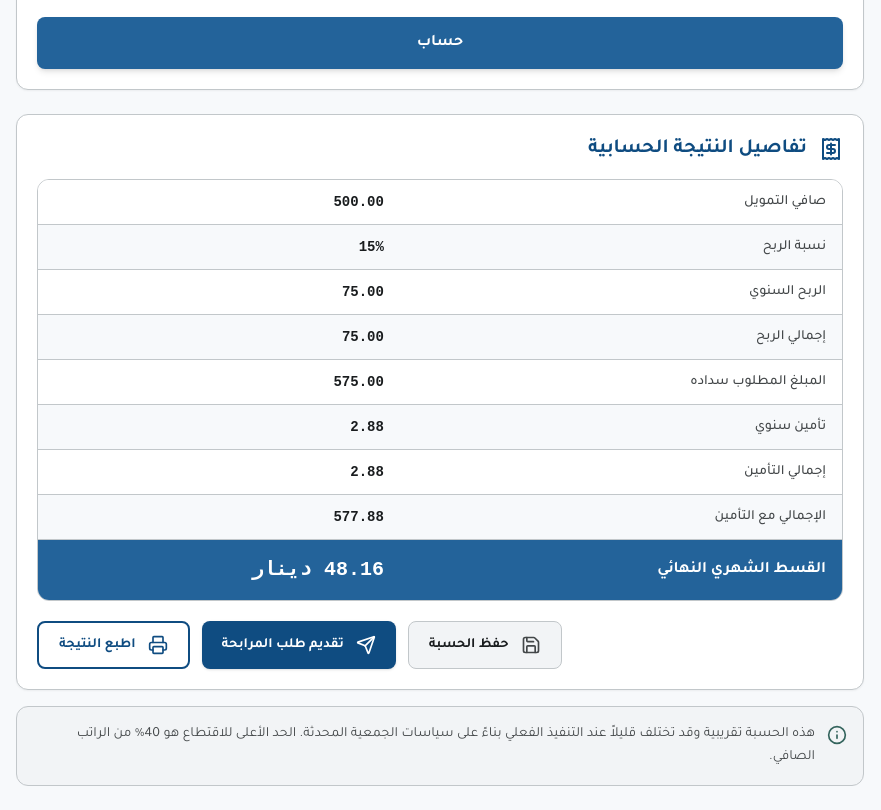
Test case: LoanCalculator › clears pending notification timers on unmount
(page scrolled)
Click the button "حفظ الحسبة" at (485, 645), box [408,621,562,669]
(page scrolled)
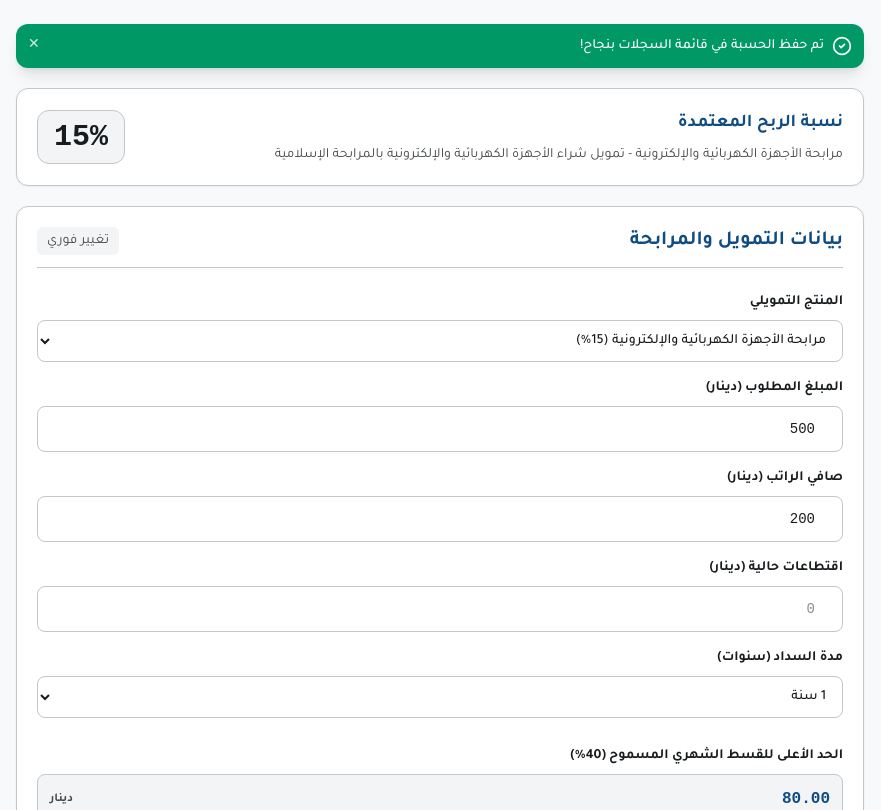
Expected: the message "تم حفظ الحسبة في قائمة السجلات بنجاح! ✕" is shown, [16,24,864,68]
